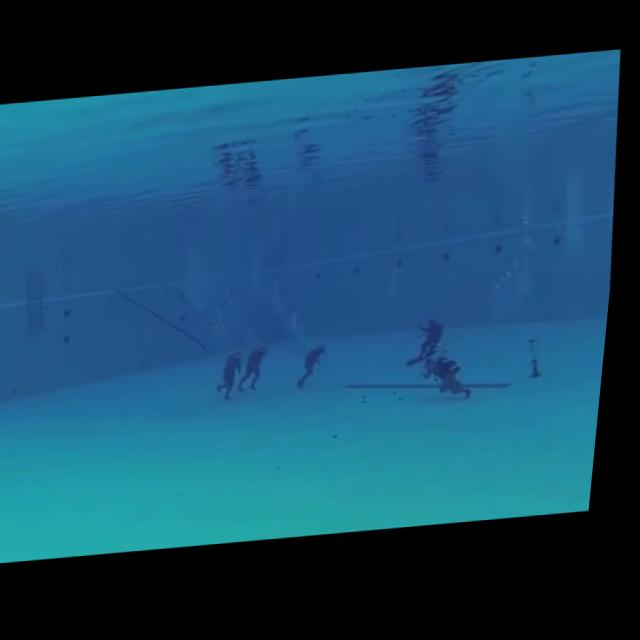human: (423, 354, 489, 409), (214, 343, 258, 408), (410, 315, 457, 371), (240, 337, 283, 398), (298, 339, 341, 395)
